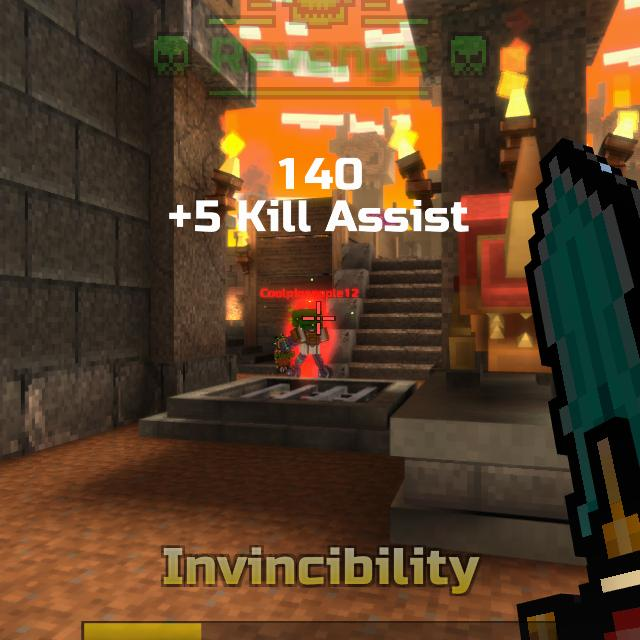Enemy: (278, 311, 329, 380)
